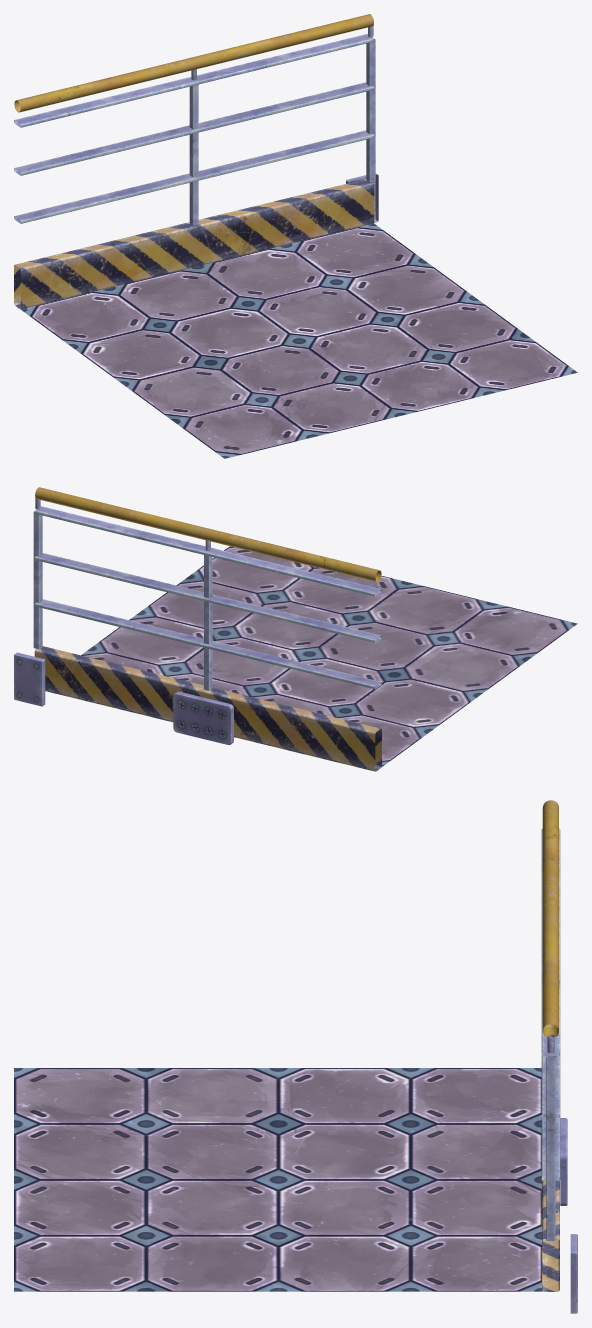
Rendered from SM_Walkway.fbx.
3 views of the same model, one above another, from view 1: azimuth 30°, elevation 25°; view 2: azimuth 150°, elevation 25°; view 3: azimuth 270°, elevation 25° (orthographic). The views are drawn at different scales.
Visible parts, largest first — view 1: SM_Walkway.001; view 2: SM_Walkway.001; view 3: SM_Walkway.001.
Boxes of the visible parts, bbox=[...] form: SM_Walkway.001: bbox=[14, 14, 577, 458]; SM_Walkway.001: bbox=[14, 487, 577, 771]; SM_Walkway.001: bbox=[14, 800, 577, 1313].
Size of the model in its own units: 626 by 352 by 640.
